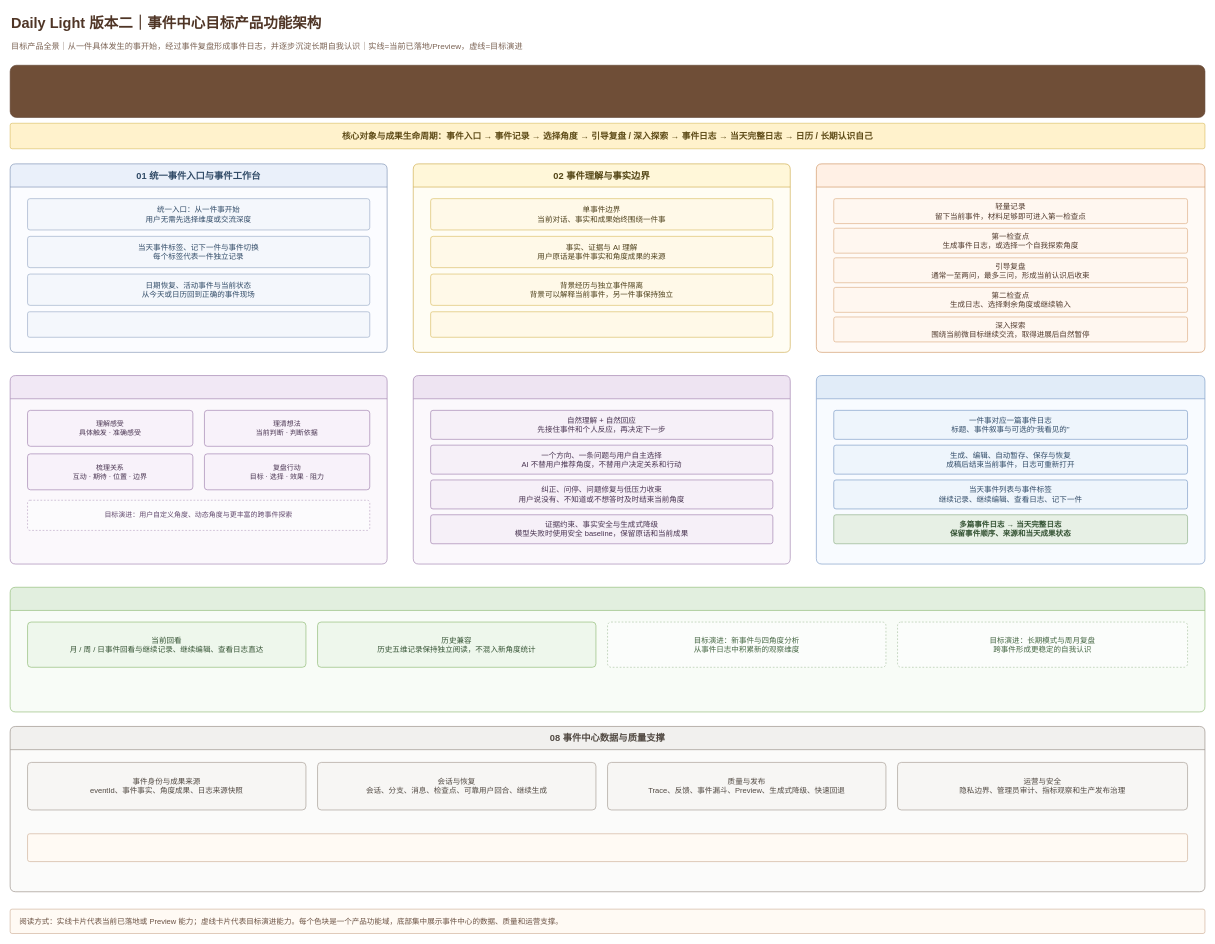
Image size: 1215x944. Some labels were removed from this diagram. Here are the shapes that lost their labels. From the top down, the box of each, then its label:
(10, 65, 1205, 117): Daily Light｜事件中心 产品目标：让用户从一件具体的事出发，形成真实可回看的理解 核心对象：事件 → 角度成果 → 事件日志 → 当天完整日志
(816, 163, 1205, 352): 03 三阶段事件复盘
(27, 311, 370, 337): 三段进度 轻量记录 · 引导复盘 · 深入探索
(430, 311, 773, 337): 纠正、否定、冲突与重点变化 用户最新表达优先，争议内容暂停进入成果
(10, 375, 387, 564): 04 四个自我探索角度
(413, 375, 790, 564): 05 事件中心 AI 对话能力
(816, 375, 1205, 564): 06 事件日志与日级成果
(10, 587, 1205, 712): 07 日历、历史与长期发展
(27, 833, 1188, 862): 产品判断：事件中心的基本单位是一件事；四个角度是用户自主选择的探索入口；事件日志是单件成果，多篇事件日志再形成当天成果。
